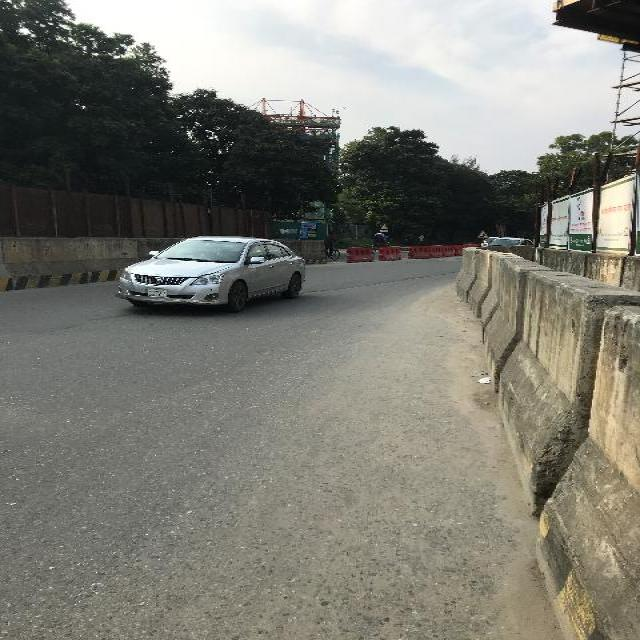bike: (324, 244, 342, 262)
vehicle: (115, 235, 308, 313), (372, 234, 390, 252)
